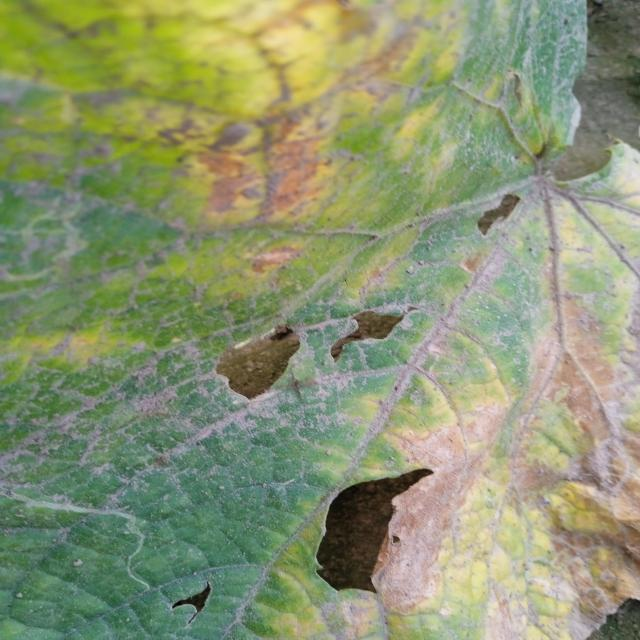cucumber_anthracnose: (5, 126, 628, 624)
